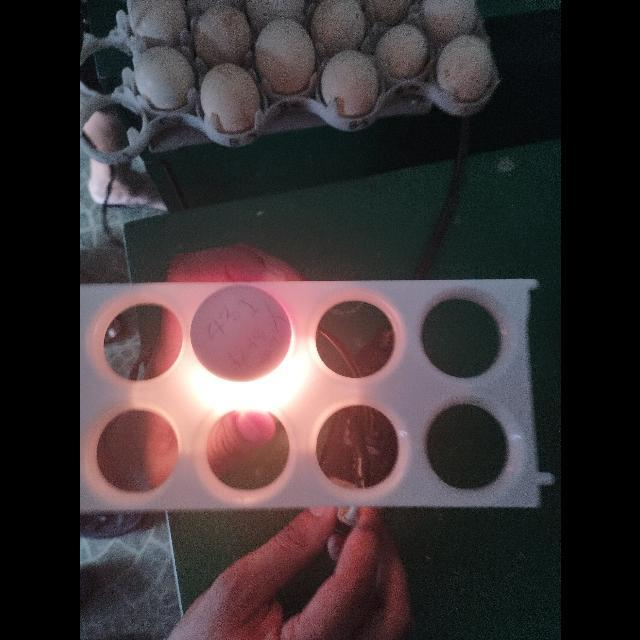Fertile: (188, 284, 292, 384)
